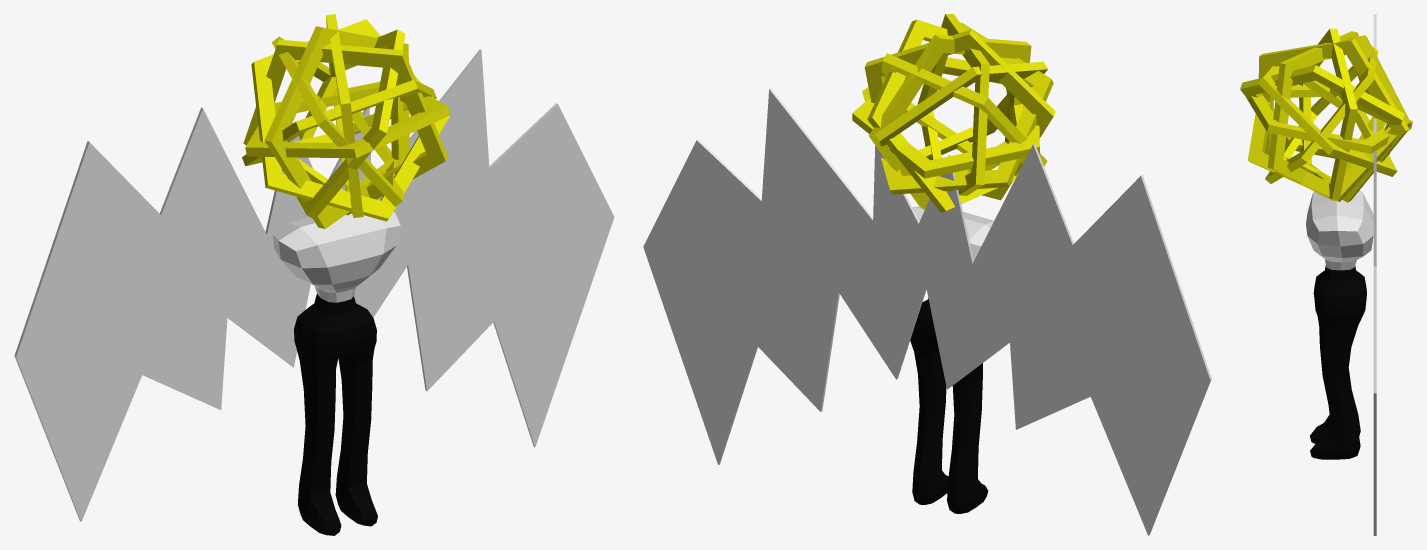
Rendered from налоговый инспектор кармы.fbx.
The picture shows the model from 3 angles, left to right: view 1: azimuth 30°, elevation 25°; view 2: azimuth 150°, elevation 25°; view 3: azimuth 270°, elevation 25°; orthographic projection. The views are drawn at different scales.
Parts seen in each view (by area): view 1: Plane; view 2: Plane; view 3: Plane.
Part boxes in pixels (x1,y1,x2,y2): Plane: [14, 14, 614, 535]; Plane: [643, 14, 1211, 535]; Plane: [1240, 14, 1412, 535].
Size of the model in its own units: 200 by 161 by 60.6.
